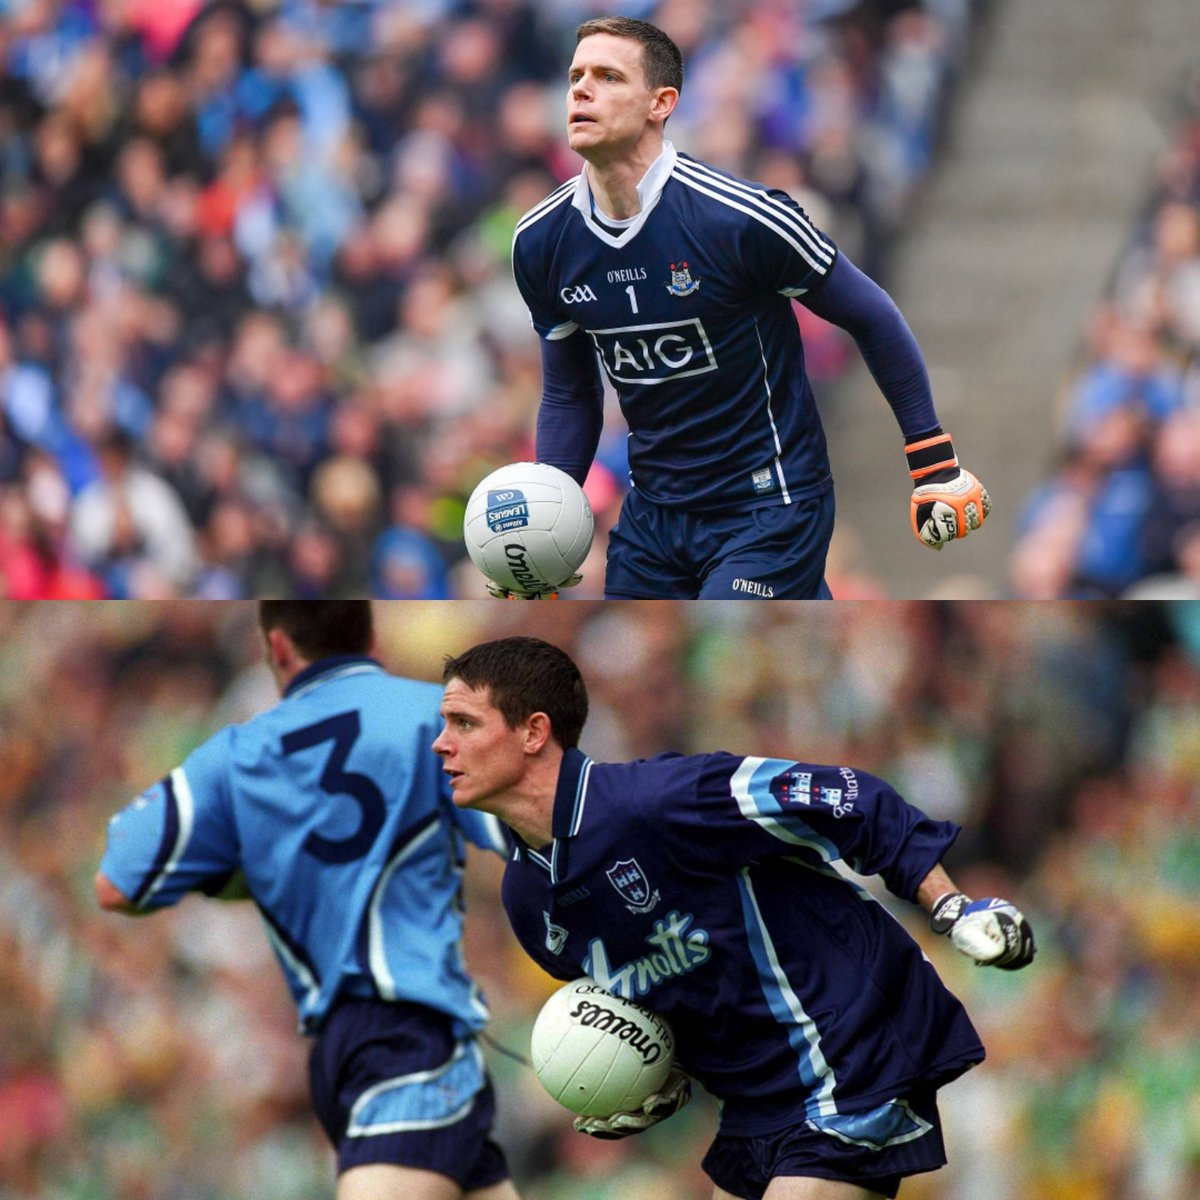ball: (524, 967, 680, 1124), (463, 455, 594, 584)
player: (430, 633, 1021, 1190), (435, 4, 922, 599), (137, 600, 506, 1196)
